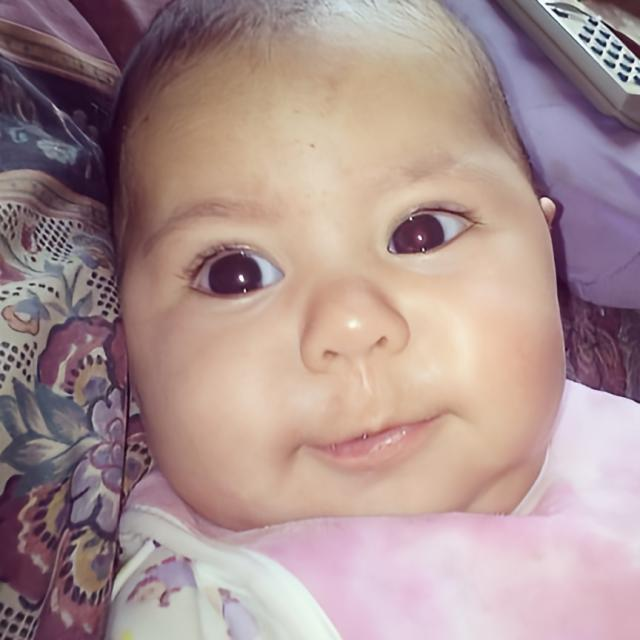surprise: (126, 19, 564, 538)
